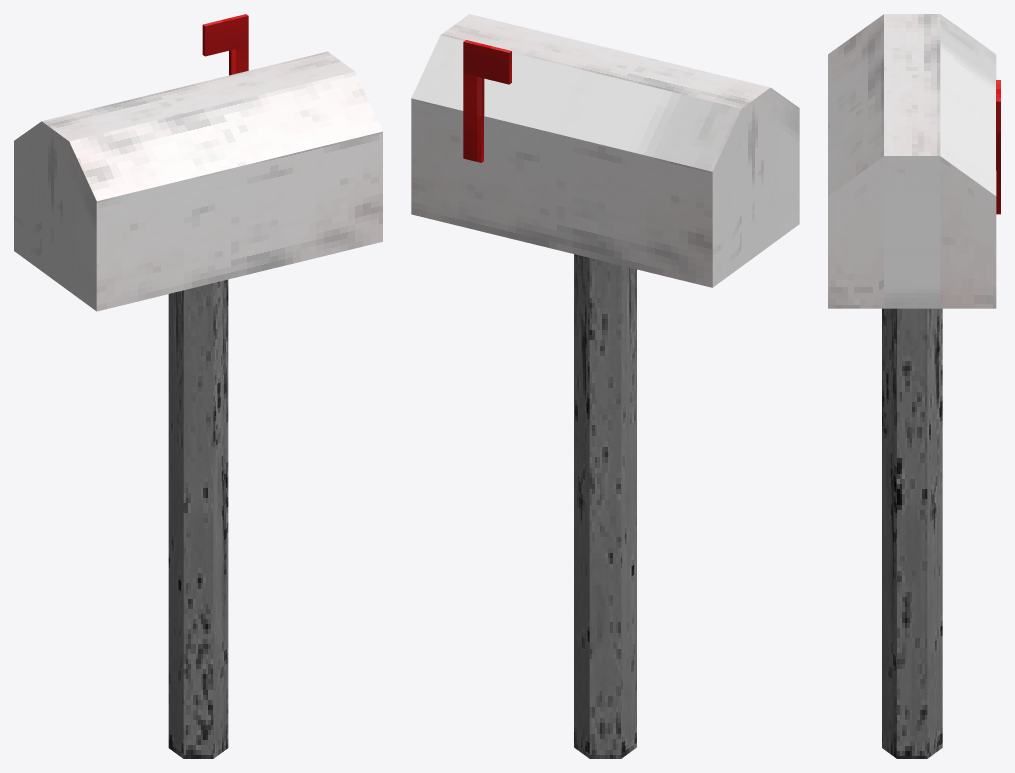
File: mailbox.glb
3 renders of one model, left to right at view 1: azimuth 30°, elevation 25°; view 2: azimuth 150°, elevation 25°; view 3: azimuth 270°, elevation 25°, orthographic. The views are drawn at different scales.
Parts seen in each view (by area): view 1: Cylinder; view 2: Cylinder; view 3: Cylinder.
Part boxes in pixels (left/top/right/bottom): Cylinder: left=14, top=14, right=382, bottom=758; Cylinder: left=411, top=14, right=799, bottom=758; Cylinder: left=828, top=14, right=1000, bottom=758.
Bounding box in the file's own units: 1.26 × 2.86 × 0.6472.
Materials: 1 (1 with a texture image).
